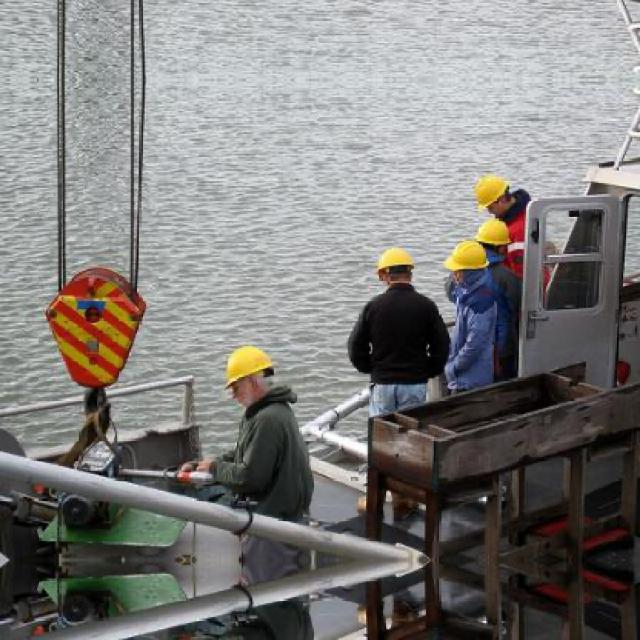con casco: (461, 147, 537, 252), (352, 230, 430, 330), (441, 225, 526, 312), (220, 324, 293, 410), (474, 201, 508, 302)
